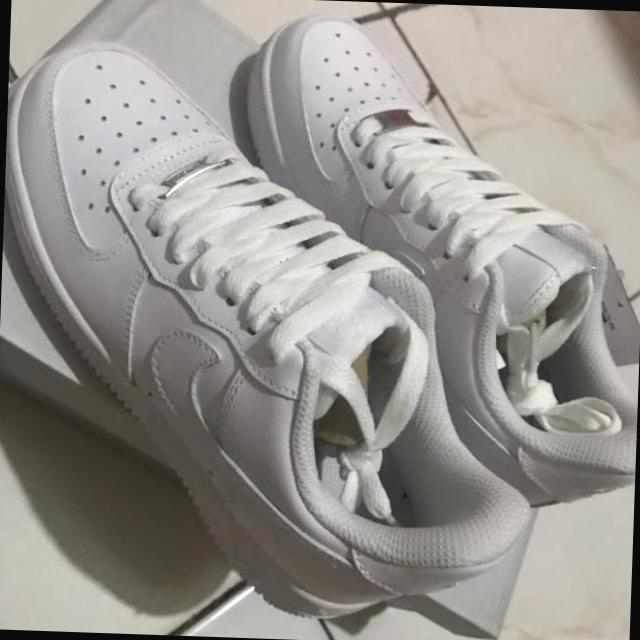nike_original_airforce: (0, 36, 548, 629), (230, 11, 640, 517)
